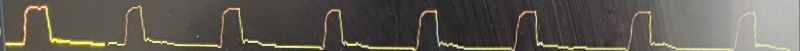normal_pressure: (0, 0, 791, 51)
